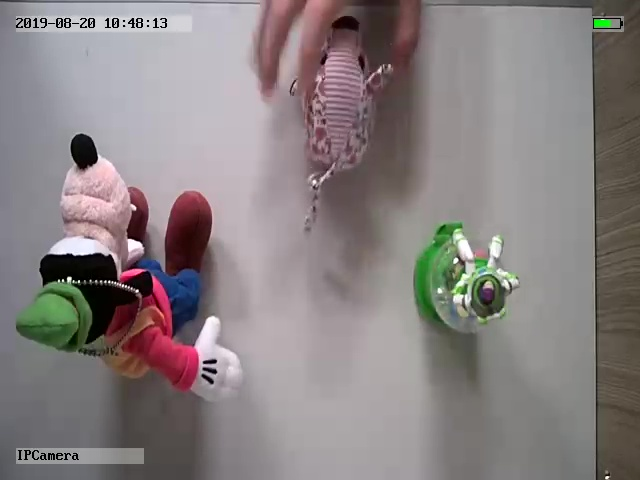buzz: (408, 218, 522, 340)
goofy: (13, 129, 245, 405)
pig: (291, 15, 395, 236)
